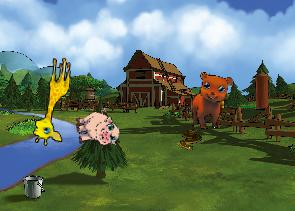bear: (191, 72, 233, 130)
giraffe: (31, 54, 72, 147)
pig: (73, 107, 120, 151)
